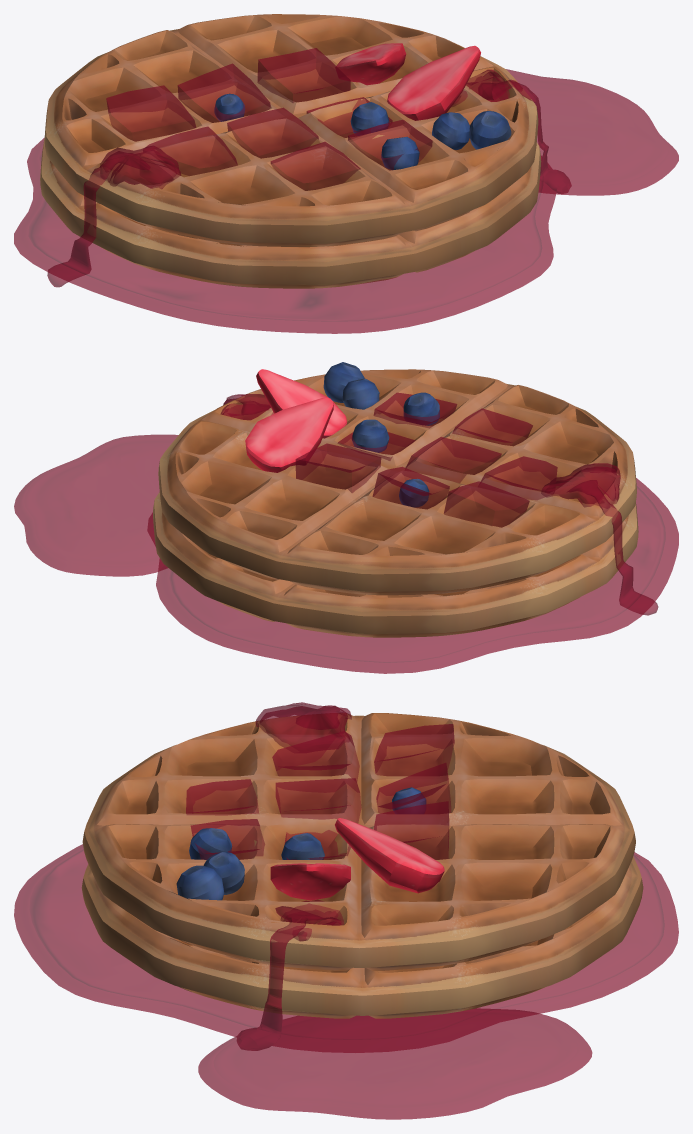
The model's file is waffles.glb.
3 renders of one model, top to bottom at view 1: azimuth 30°, elevation 25°; view 2: azimuth 150°, elevation 25°; view 3: azimuth 270°, elevation 25°, orthographic. The views are drawn at different scales.
Parts seen in each view (by area): view 1: waffles; view 2: waffles; view 3: waffles.
Boxes of the visible parts, x1,y1,x2,y2 form: waffles: (14,14,678,333); waffles: (14,362,678,673); waffles: (14,702,678,1119).
Bounding box in the file's own units: 191 × 42.65 × 160.
Materials: 4 (3 with a texture image).
